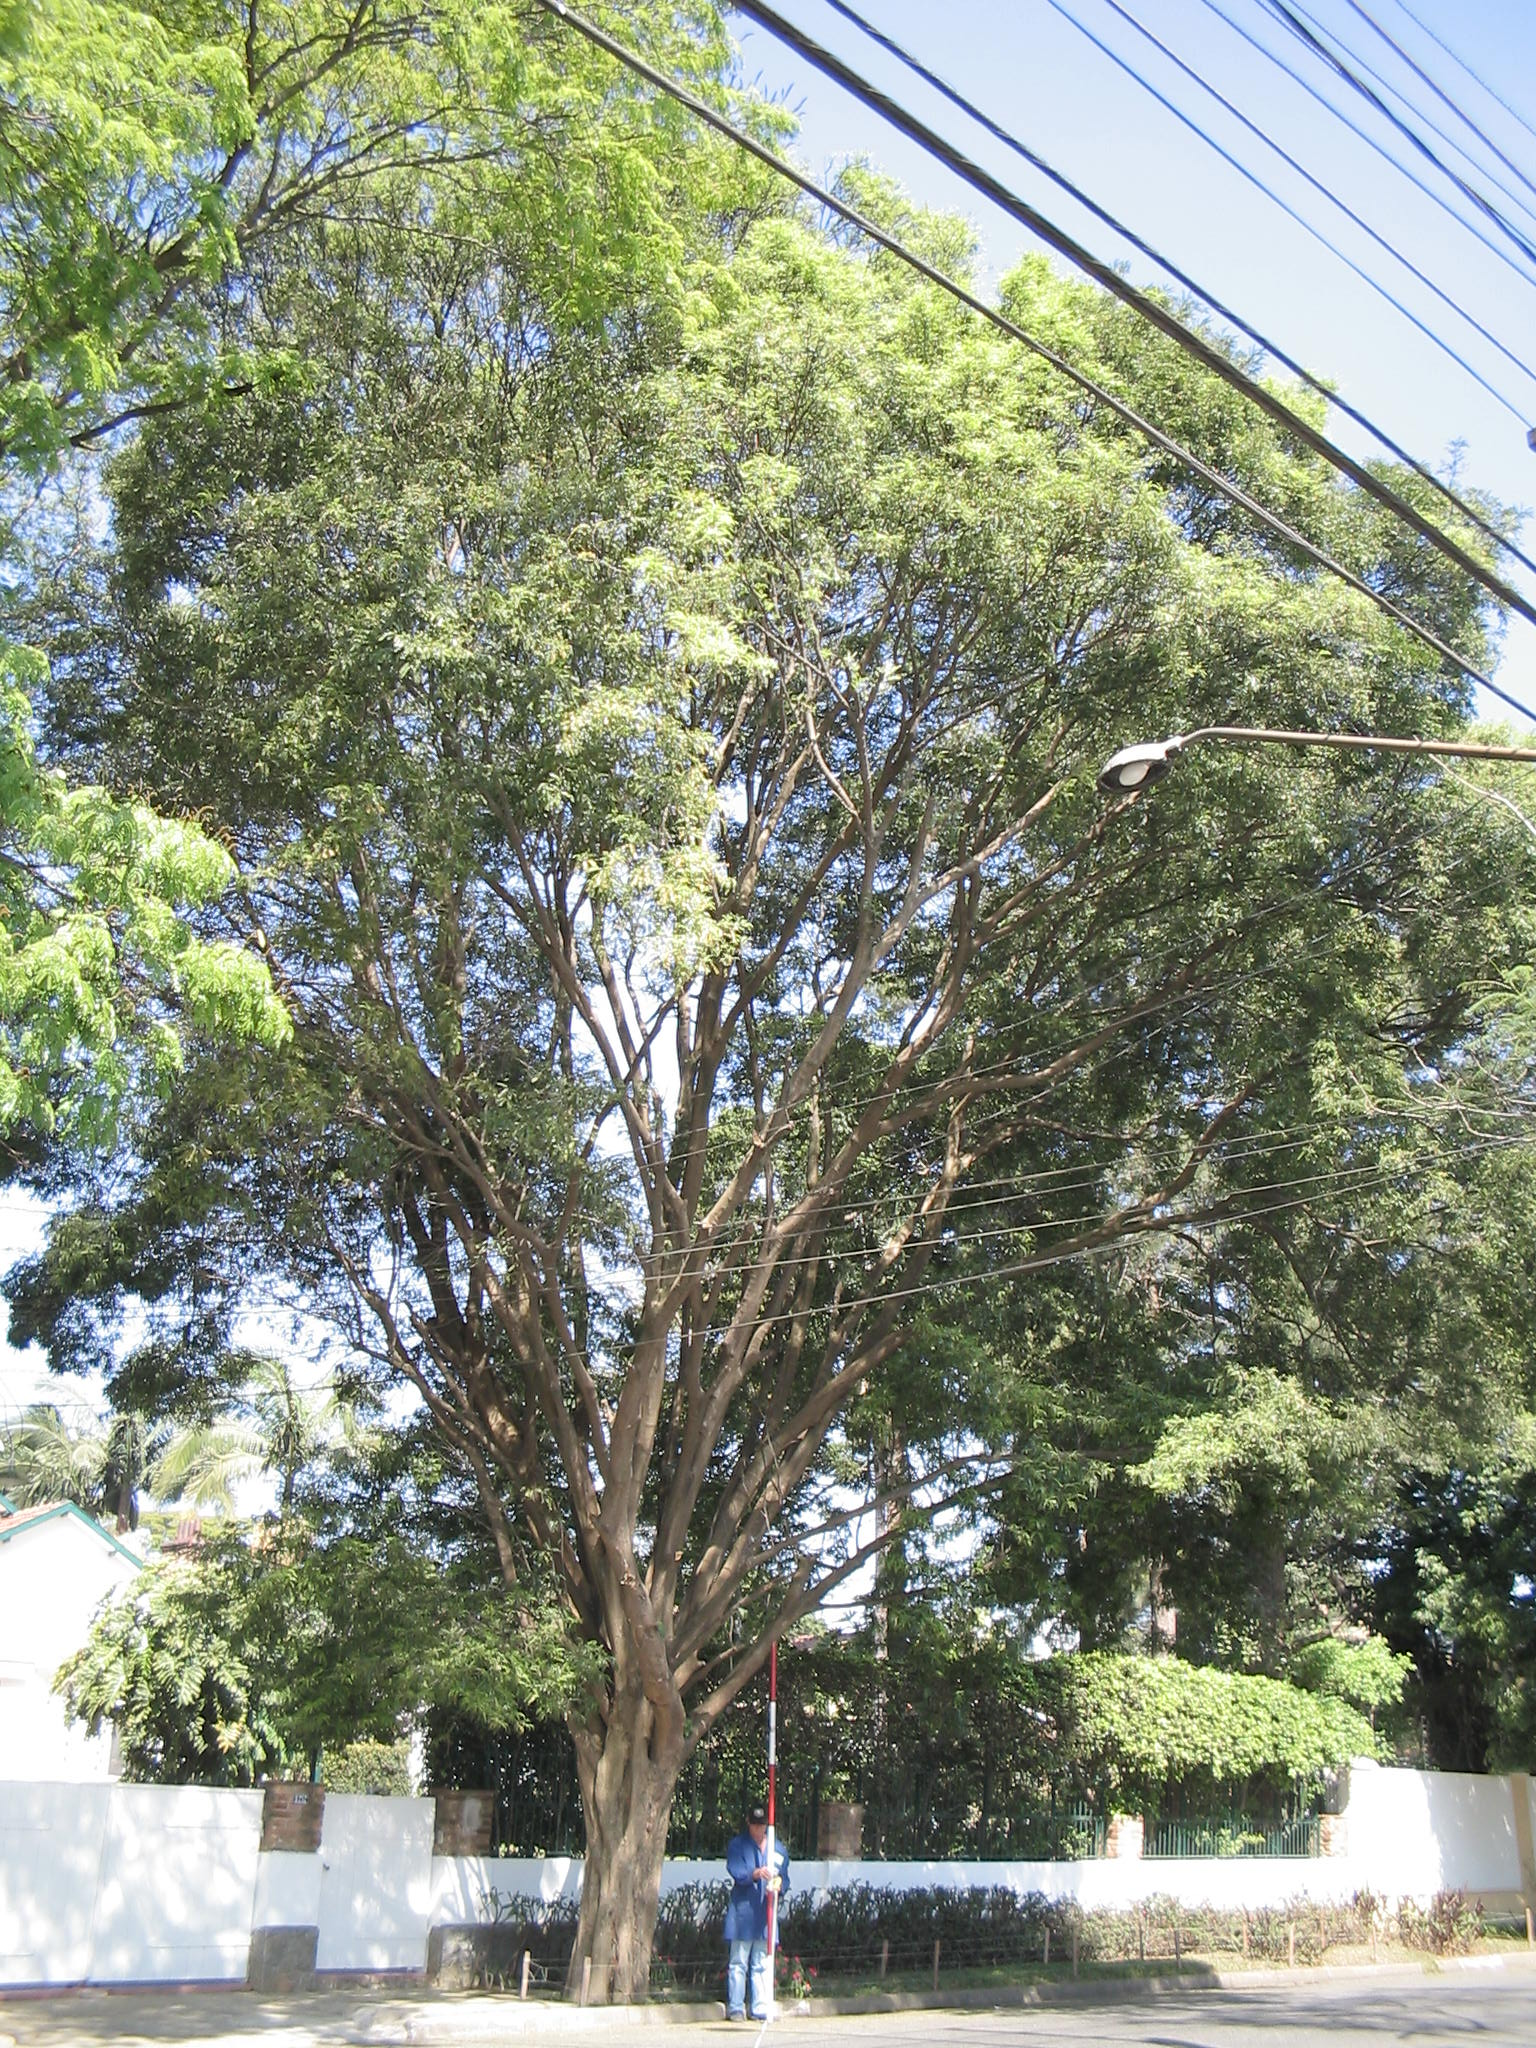crown: (24, 240, 1433, 1380)
stem: (528, 1746, 713, 2006)
stick: (742, 1648, 792, 2025)
tree: (13, 231, 1438, 2014)
